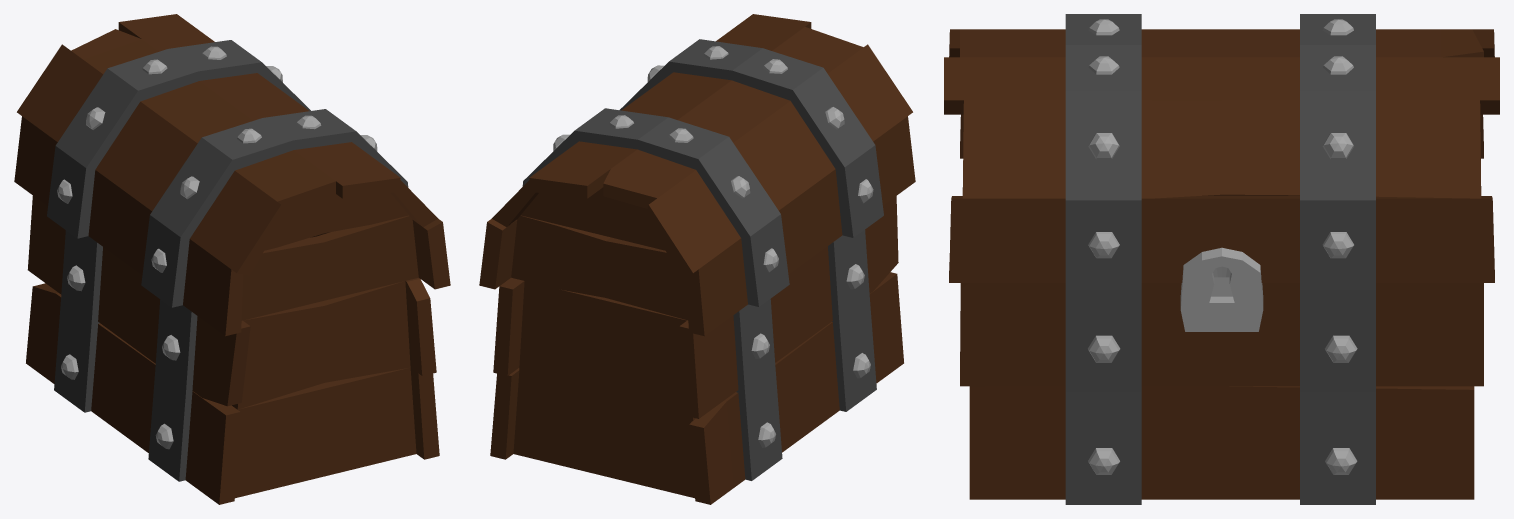
Rendered from Chest 1.fbx.
The picture shows the model from 3 angles, left to right: view 1: azimuth 30°, elevation 25°; view 2: azimuth 150°, elevation 25°; view 3: azimuth 270°, elevation 25°; orthographic projection. The views are drawn at different scales.
Visible parts, largest first — view 1: Cube.010, Cube.014, Cube.009, Cube.001, Cube.023, Cube.027, Cube.020, Cube.007, Cube.016, Cube.012, Cube.017, Cube.025 (+6 smaller); view 2: Cube.014, Cube.003, Cube.008, Cube.001, Cube.027, Cube.023, Cube.007, Cube.004, Cube.016, Cube.012, Cube.017, Cube.025 (+6 smaller); view 3: Cube.006, Cube.013, Cube.005, Cube.015, Cube.023, Cube.027, Cube.017, Cube, Cube.024, Cube.012, Cube.022, Cube.021 (+9 smaller).
Part boxes in pixels (bbox=[...]): Cube.010: bbox=[233, 367, 416, 498]; Cube.014: bbox=[17, 44, 284, 275]; Cube.009: bbox=[232, 281, 410, 409]; Cube.001: bbox=[26, 283, 240, 504]; Cube.023: bbox=[141, 109, 408, 307]; Cube.027: bbox=[47, 40, 310, 238]; Cube.020: bbox=[241, 215, 418, 320]; Cube.007: bbox=[27, 196, 250, 406]; Cube.016: bbox=[14, 116, 243, 336]; Cube.012: bbox=[71, 29, 335, 212]; Cube.017: bbox=[118, 14, 400, 198]; Cube.025: bbox=[54, 230, 102, 412]; Cube.014: bbox=[645, 44, 912, 275]; Cube.003: bbox=[513, 367, 695, 498]; Cube.008: bbox=[519, 281, 686, 407]; Cube.001: bbox=[689, 272, 903, 504]; Cube.027: bbox=[522, 108, 789, 306]; Cube.023: bbox=[619, 39, 883, 237]; Cube.007: bbox=[679, 196, 898, 418]; Cube.004: bbox=[511, 215, 688, 320]; Cube.016: bbox=[686, 116, 915, 336]; Cube.012: bbox=[603, 27, 863, 208]; Cube.017: bbox=[529, 14, 811, 198]; Cube.025: bbox=[733, 299, 782, 480]; Cube.006: bbox=[969, 386, 1474, 499]; Cube.013: bbox=[962, 100, 1481, 198]; Cube.005: bbox=[960, 283, 1483, 386]; Cube.015: bbox=[949, 196, 1494, 282]; Cube.023: bbox=[1065, 14, 1141, 289]; Cube.027: bbox=[1300, 14, 1375, 289]; Cube.017: bbox=[944, 57, 1499, 114]; Cube: bbox=[1065, 289, 1141, 504]; Cube.024: bbox=[1300, 289, 1375, 504]; Cube.012: bbox=[960, 29, 1483, 57]; Cube.022: bbox=[1180, 247, 1263, 310]; Cube.021: bbox=[1181, 310, 1262, 331].
Size of the model in its own units: 153 by 186 by 236.
